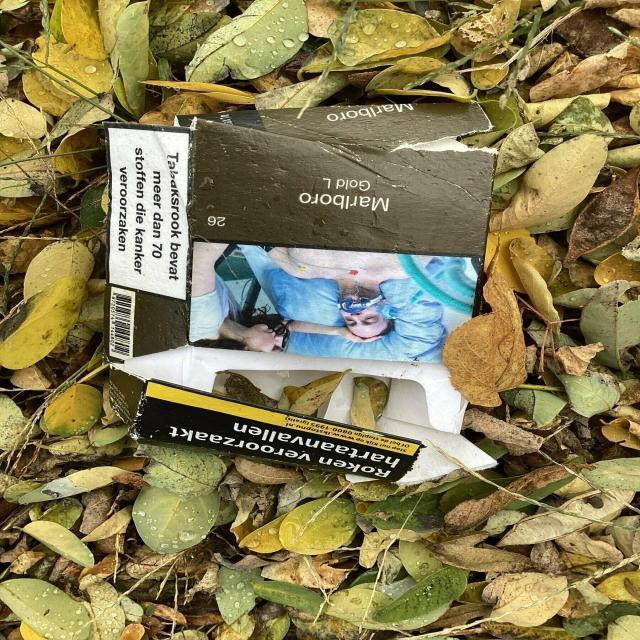Paper: (97, 86, 510, 492)
